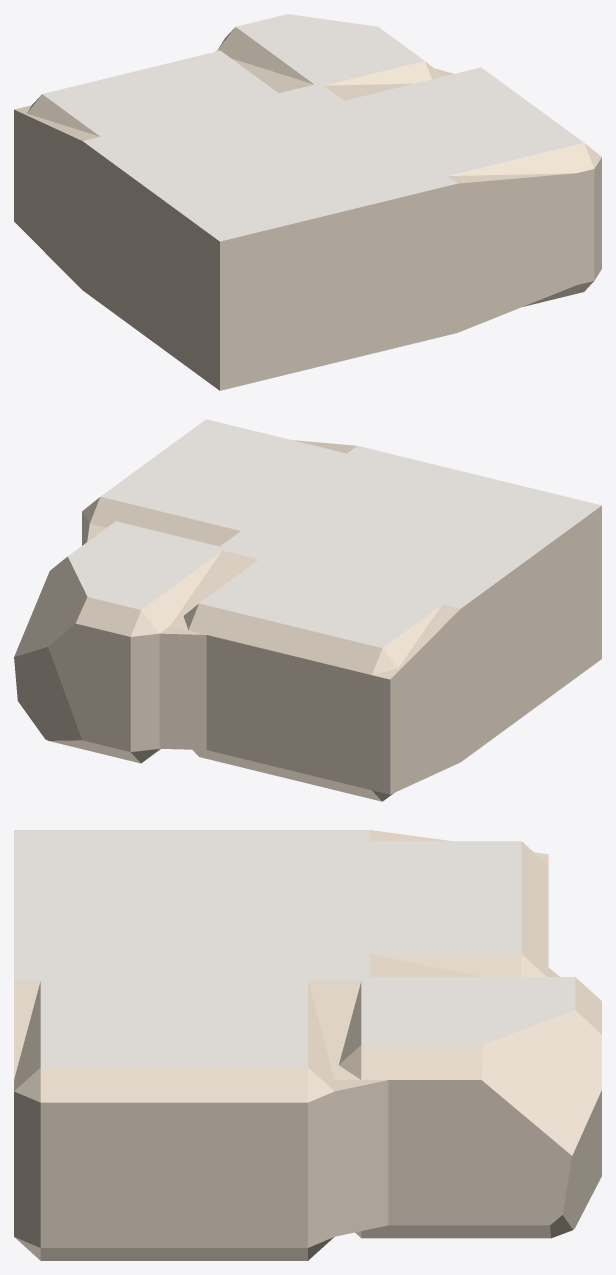
Rendered from Floor_Ruined_Corner_Outer_2.glb.
3 views of the same model, one above another, from view 1: azimuth 30°, elevation 25°; view 2: azimuth 150°, elevation 25°; view 3: azimuth 270°, elevation 25° (orthographic). The views are drawn at different scales.
Visible parts, largest first — view 1: Floor_Ruined_Corner_Outer_2; view 2: Floor_Ruined_Corner_Outer_2; view 3: Floor_Ruined_Corner_Outer_2.
Boxes of the visible parts, left/top/right/bottom form: Floor_Ruined_Corner_Outer_2: left=14, top=14, right=601, bottom=390; Floor_Ruined_Corner_Outer_2: left=14, top=419, right=601, bottom=801; Floor_Ruined_Corner_Outer_2: left=14, top=830, right=601, bottom=1260.
Bounding box in the file's own units: 0.2475 × 0.09 × 0.2475.
